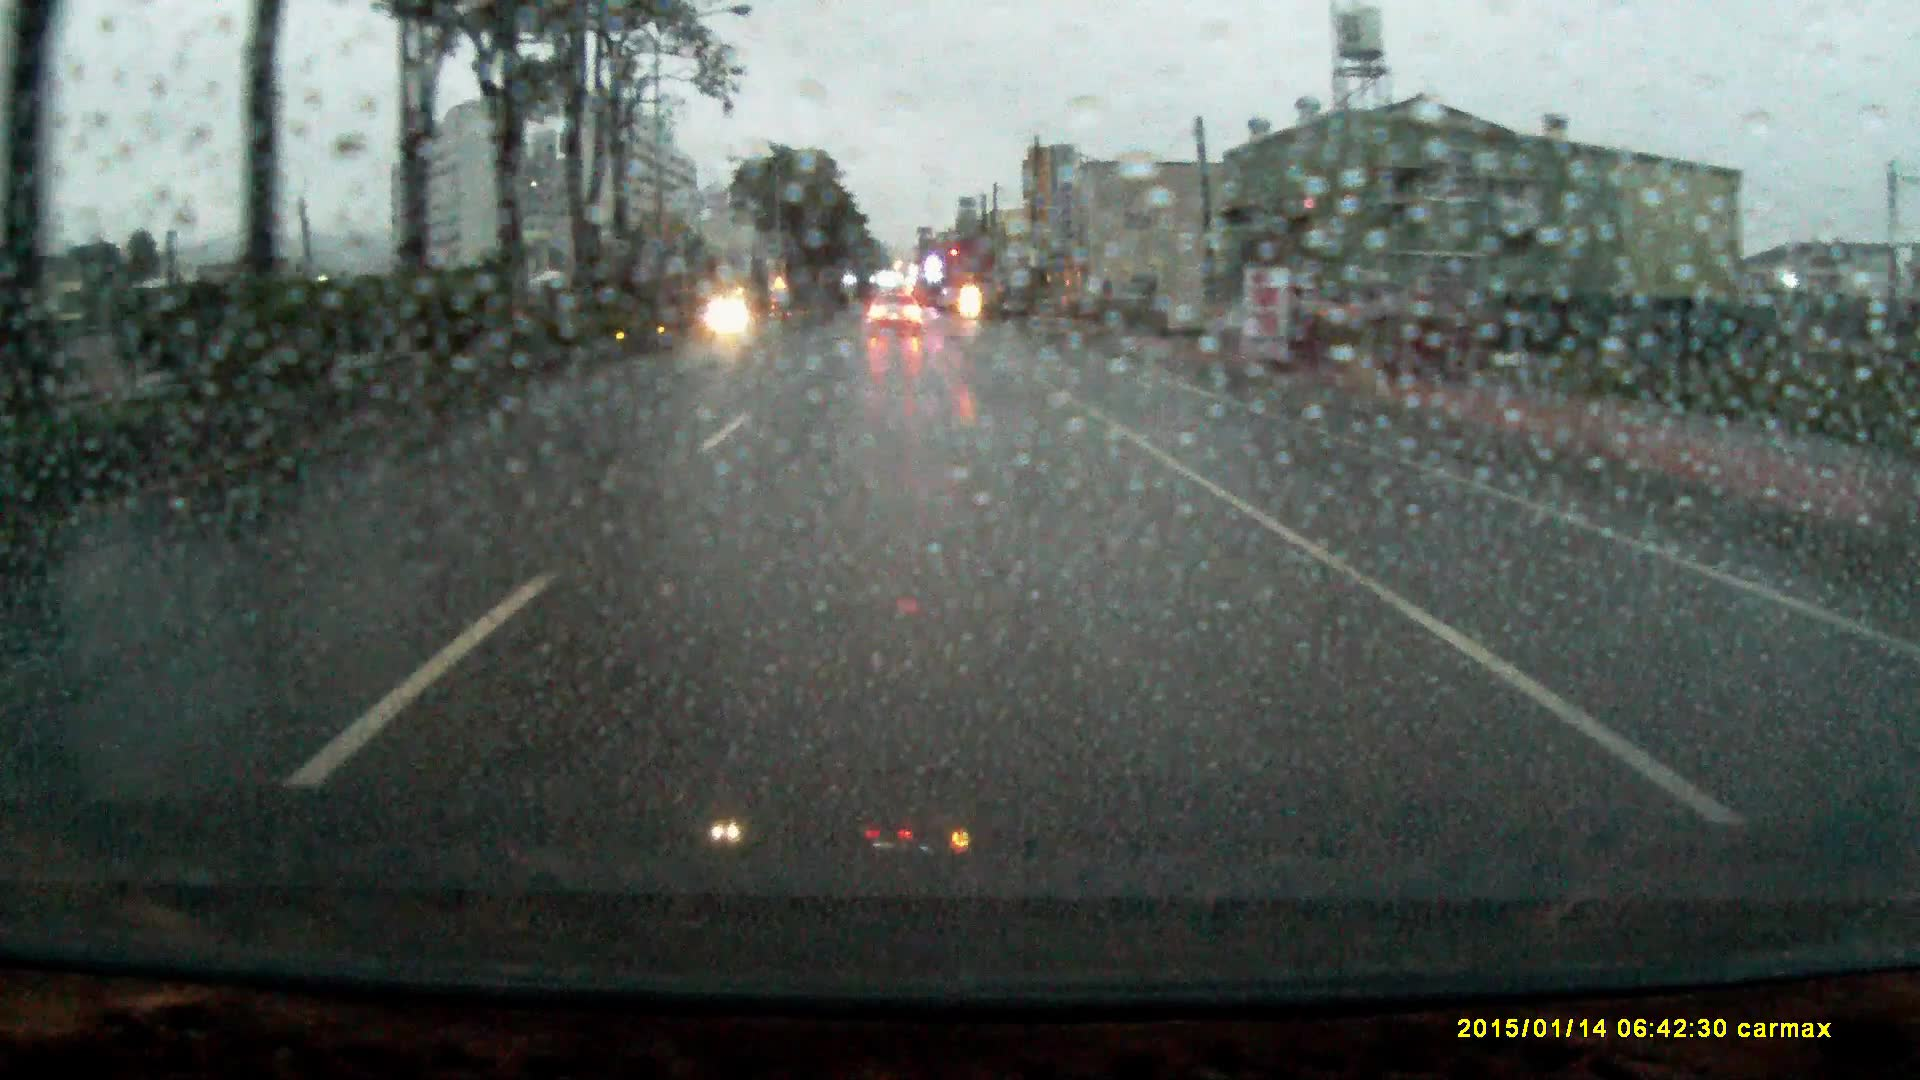vehicle: (868, 297, 923, 339)
